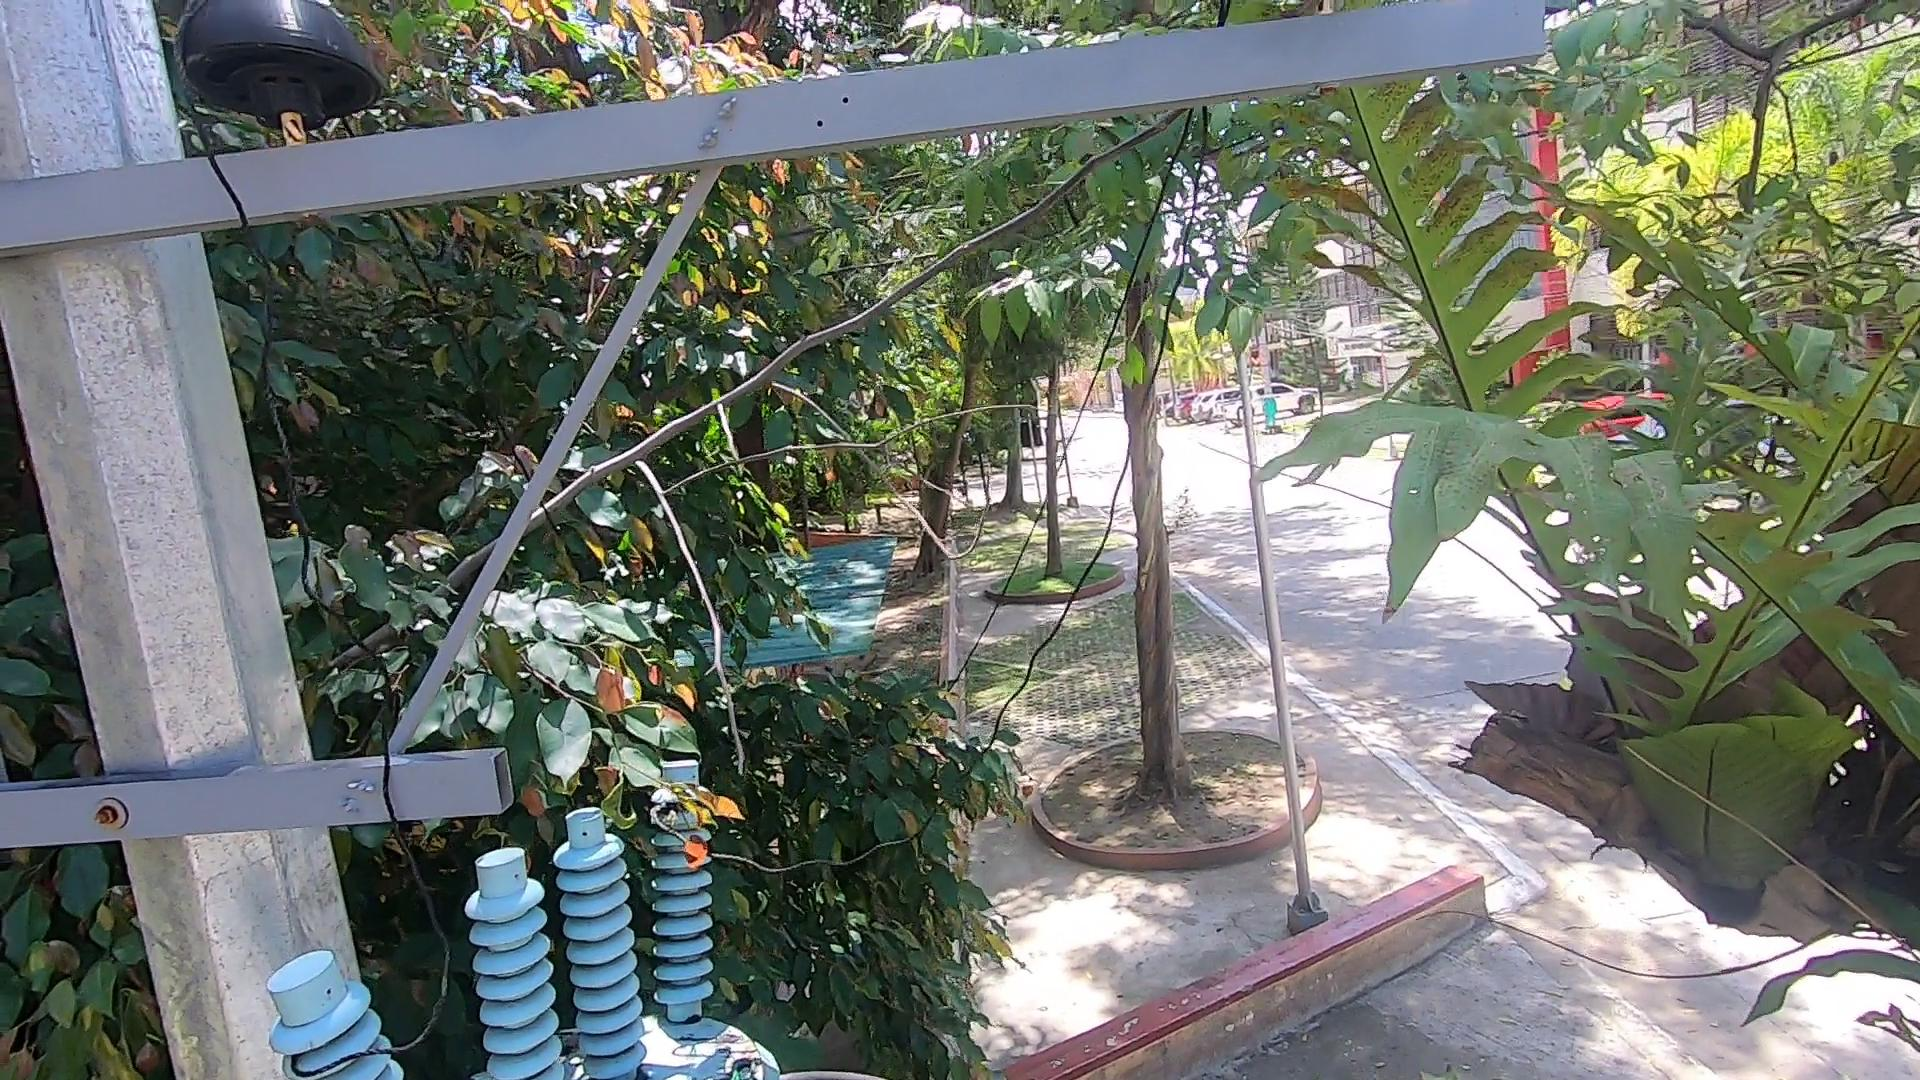tree branch: (306, 59, 1262, 808)
